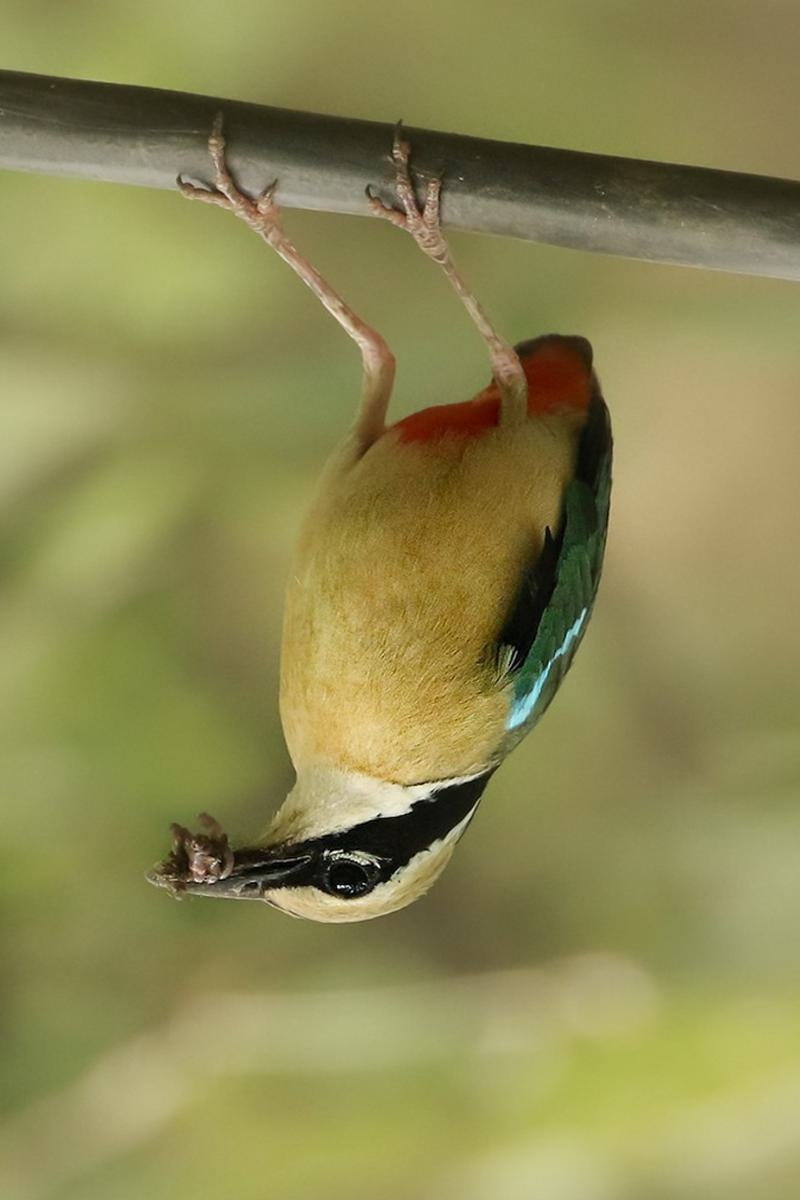pitta: (119, 259, 643, 989)
